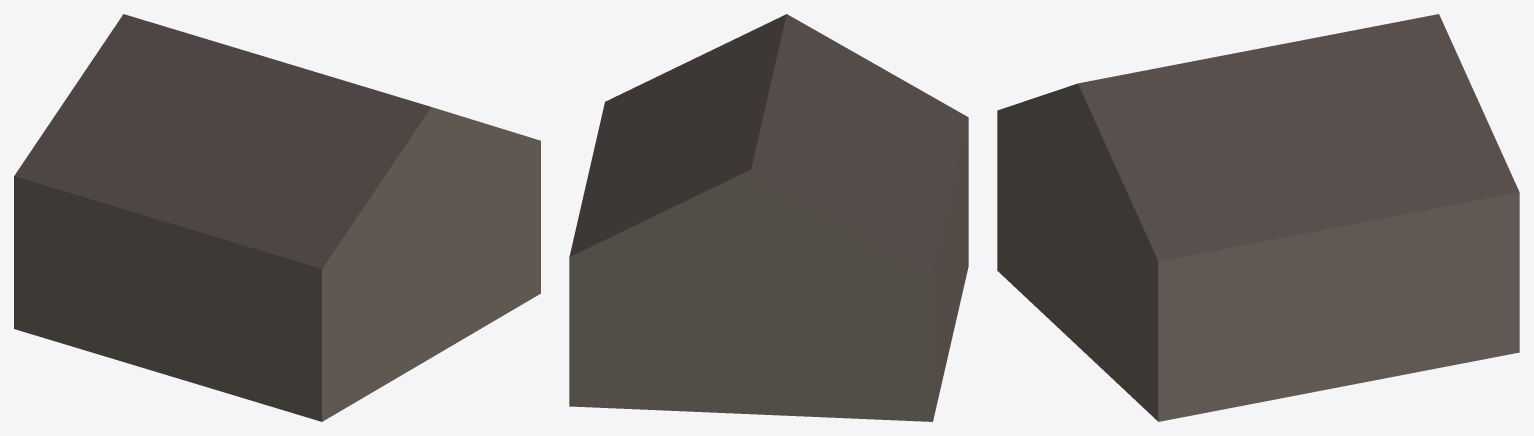
3 renders of one model, left to right at view 1: azimuth 30°, elevation 25°; view 2: azimuth 150°, elevation 25°; view 3: azimuth 270°, elevation 25°, orthographic. The views are drawn at different scales.
Visible parts, largest first — view 1: HP-w859457426; view 2: HP-w859457426; view 3: HP-w859457426.
Boxes of the visible parts, x1,y1,x2,y2 form: HP-w859457426: (14, 14, 540, 421); HP-w859457426: (569, 14, 968, 421); HP-w859457426: (997, 14, 1519, 421).
Bounding box in the file's own units: 17.71 × 9.84 × 17.72.
